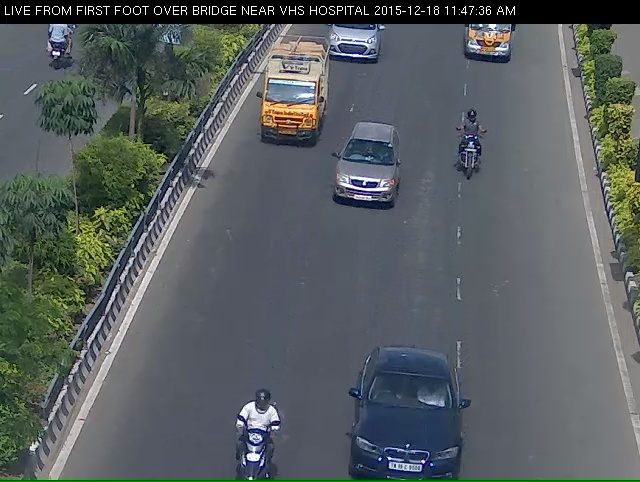Car: (342, 369, 479, 480), (253, 33, 324, 149), (326, 131, 399, 223), (457, 12, 523, 71), (320, 17, 388, 72)
Person: (226, 415, 284, 482), (460, 120, 490, 189)
